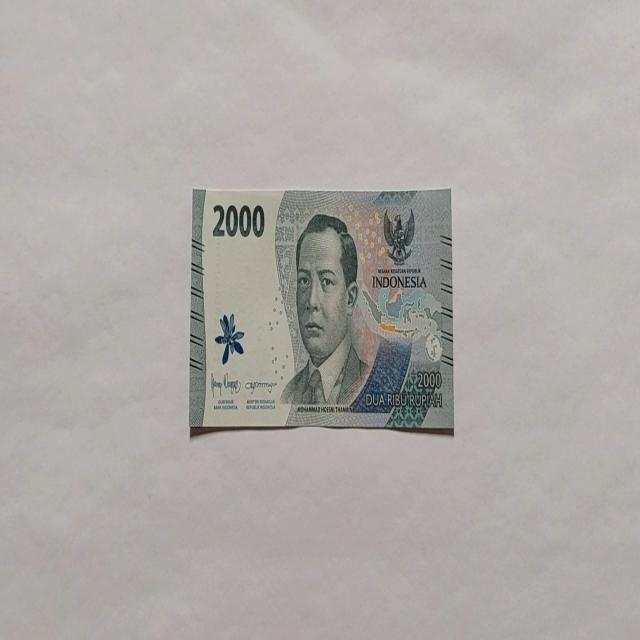dua ribu rupiah: (188, 184, 454, 436), (278, 212, 371, 410)
